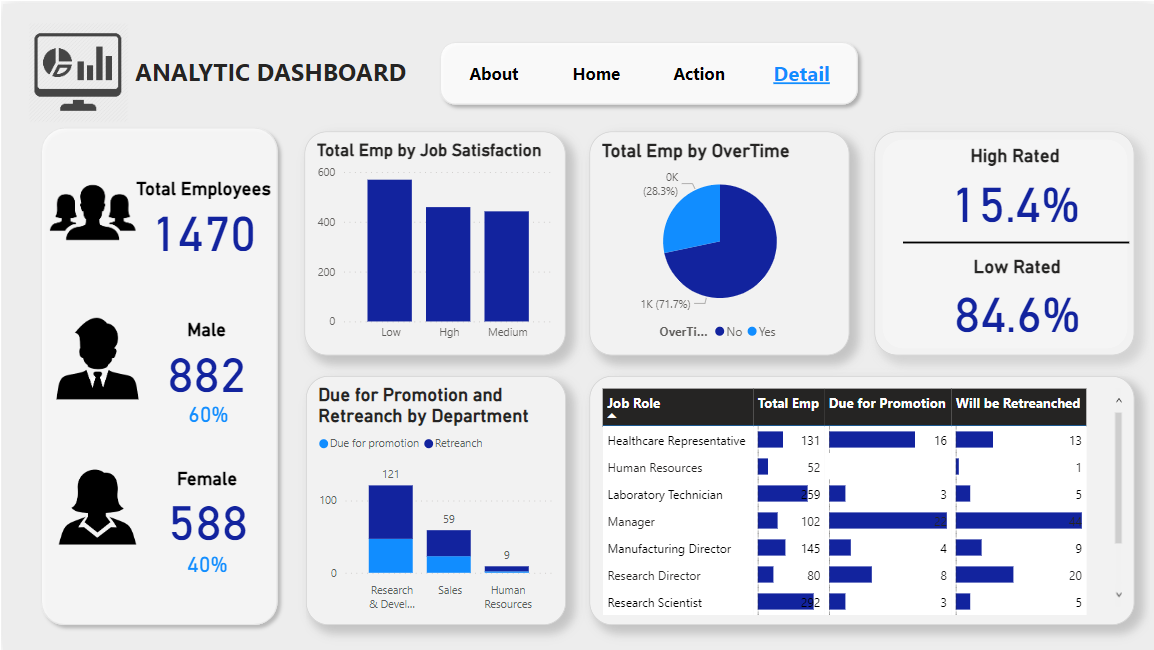

Layout of this report page (visuals, bound fields, positions):
{"tool":"powerbi","page":{"name":"Detail","canvas":[1280,720],"ordinal":3},"visuals":[{"type":"shape","box":[476.8,33.2,482.2,87.4],"z":0,"group":"g2"},{"type":"shape","box":[33,128.2,280.7,570.6],"z":0,"group":"g1"},{"type":"image","box":[0,15,166.7,121.7],"z":1000},{"type":"card","title":"Total Employees","fields":{"Values":["Sheet 1.Total emp"]},"box":[110.4,192.9,225.9,86.3],"z":1000,"group":"g1"},{"type":"card","title":"Male","fields":{"Values":["Sheet 1.male_count"]},"box":[149.8,350.3,152.6,87.2],"z":2000,"group":"g1"},{"type":"columnChart","title":"Due for Promotion and Retreanch by Department","fields":{"Category":["Sheet 1.Department"],"Y":["Sheet 1.Due for promotion","Sheet 1.Retreanch"]},"box":[336.7,413.3,288.3,276.7],"z":2000},{"type":"textbox","box":[141.7,51.7,340,60],"z":3000},{"type":"card","title":"Female","fields":{"Values":["Sheet 1.Female_count"]},"box":[140.4,515,173.4,87.2],"z":3000,"group":"g1"},{"type":"tableEx","fields":{"Values":["Sheet 1.JobRole","Sheet 1.Total emp","Sheet 1.Due for promotion","Sheet 1.Will be retreanched"]},"box":[651.7,413.3,605,276.7],"z":4000},{"type":"clusteredColumnChart","title":"Total Emp by Job Satisfaction","fields":{"Category":["Sheet 1.Job satisfaction"],"Y":["Sheet 1.Total emp"]},"box":[335,141.7,290,248.3],"z":5000},{"type":"pieChart","title":"Total Emp by OverTime","fields":{"Y":["Sheet 1.Total emp"],"Category":["Sheet 1.OverTime"]},"box":[651.7,141.7,288.3,248.3],"z":6000},{"type":"image","box":[40.6,170.2,118.7,124],"z":6000,"group":"g1"},{"type":"shape","box":[968.3,141.7,288.3,248.3],"z":7000},{"type":"image","box":[13.6,343.8,183.9,101.2],"z":7000,"group":"g1"},{"type":"group","id":"g1","title":"Group 1","box":[13.6,128.2,322.6,570.6],"z":8000},{"type":"image","box":[23.3,511.4,162.9,94.5],"z":8000,"group":"g1"},{"type":"card","title":"High Rated","fields":{"Values":["Sheet 1.% High Rating"]},"box":[1045.8,157.4,158.9,95.4],"z":9000},{"type":"card","fields":{"Values":["Sheet 1.Male %"]},"box":[195.1,416.2,65.9,77.5],"z":9000,"group":"g1"},{"type":"card","title":"Low Rated","fields":{"Values":["Sheet 1.% Low Rating"]},"box":[1042.6,279.7,166.9,92.2],"z":10000},{"type":"card","fields":{"Values":["Sheet 1.Female %"]},"box":[197,602.2,60.3,38.7],"z":10000,"group":"g1"},{"type":"shape","box":[999.7,244.8,251.1,39.7],"z":11000},{"type":"pageNavigator","box":[494.3,52.3,448.2,50.9],"z":12000,"group":"g2"},{"type":"group","id":"g2","title":"Group 2","box":[476.8,33.2,482.2,87.4],"z":12001}]}

Visuals, with their boxes in screenshot pixels (x1, y1, x2, y2), scaled from the page's 1280x720 canvas onto the 1154x650 screenshot:
shape: crop(430, 30, 865, 109)
shape: crop(30, 116, 283, 631)
image: crop(0, 14, 150, 123)
"Total Employees" card: crop(100, 174, 303, 252)
"Male" card: crop(135, 316, 273, 395)
"Due for Promotion and Retreanch by Department" columnChart: crop(304, 373, 563, 623)
textbox: crop(128, 47, 434, 101)
"Female" card: crop(127, 465, 283, 544)
tableEx - Sheet 1.JobRole x Sheet 1.Total emp: crop(588, 373, 1133, 623)
"Total Emp by Job Satisfaction" clusteredColumnChart: crop(302, 128, 563, 352)
"Total Emp by OverTime" pieChart: crop(588, 128, 847, 352)
image: crop(37, 154, 144, 266)
shape: crop(873, 128, 1133, 352)
image: crop(12, 310, 178, 402)
"Group 1" group: crop(12, 116, 303, 631)
image: crop(21, 462, 168, 547)
"High Rated" card: crop(943, 142, 1086, 228)
card - Sheet 1.Male %: crop(176, 376, 235, 446)
"Low Rated" card: crop(940, 253, 1090, 336)
card - Sheet 1.Female %: crop(178, 544, 232, 579)
shape: crop(901, 221, 1128, 257)
pageNavigator: crop(446, 47, 850, 93)
"Group 2" group: crop(430, 30, 865, 109)
